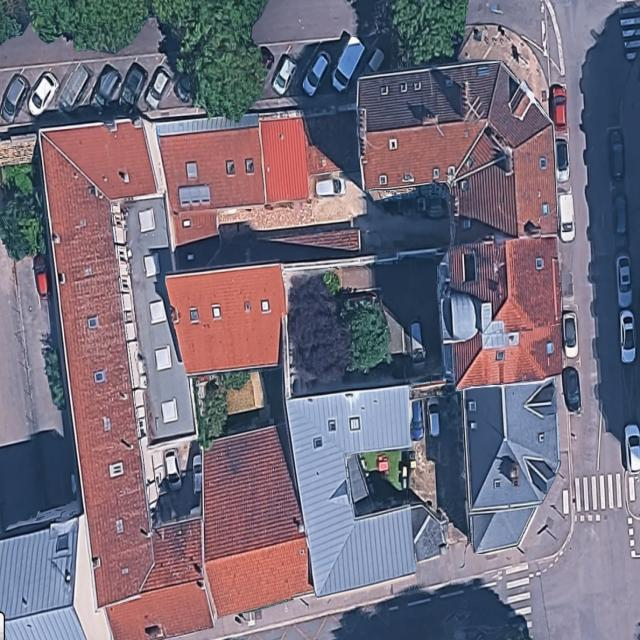immeuble: (37, 116, 216, 640), (356, 58, 558, 242), (283, 380, 439, 596), (176, 425, 320, 616), (436, 235, 568, 390), (459, 378, 565, 553), (164, 256, 295, 378), (158, 123, 268, 217), (255, 114, 315, 204)
